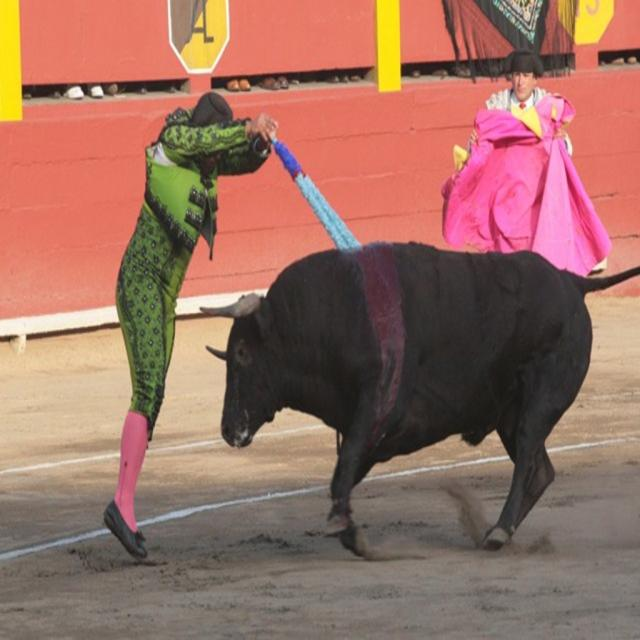Deer: (196, 240, 639, 562)
